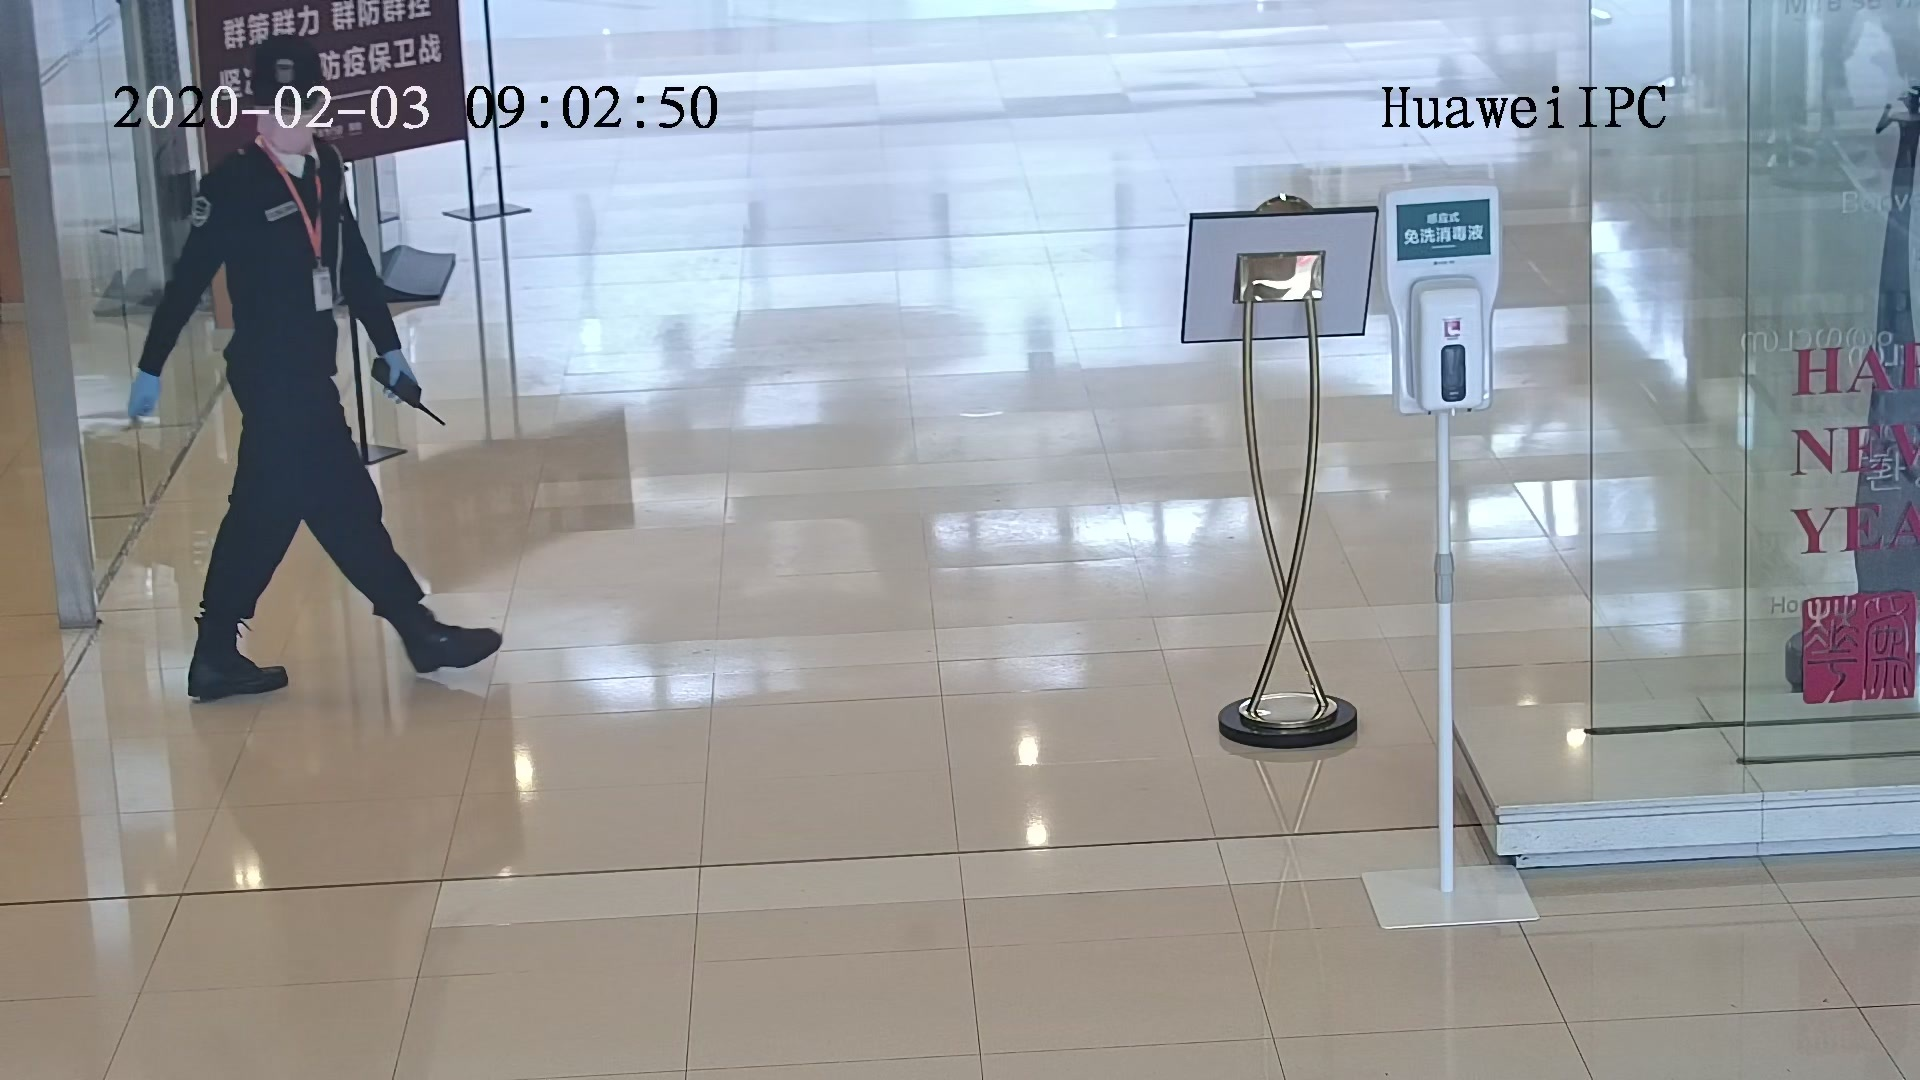face: (258, 83, 324, 161)
mask: (258, 112, 319, 156)
person: (190, 42, 357, 236)
